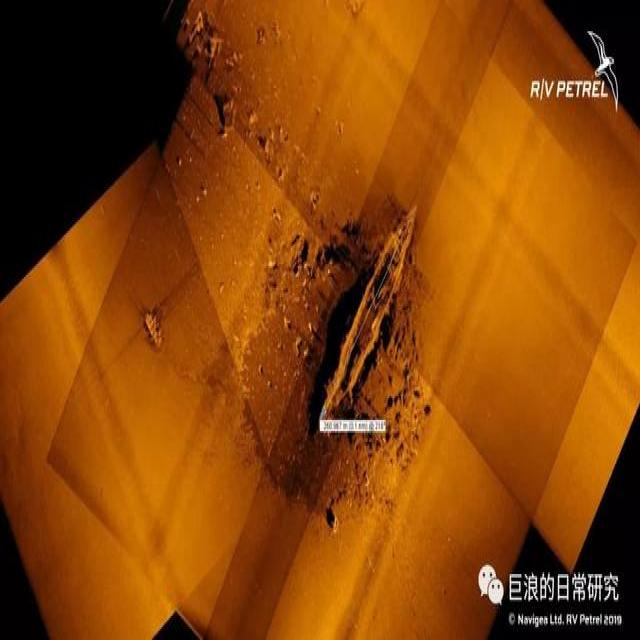ship: (313, 202, 422, 431)
